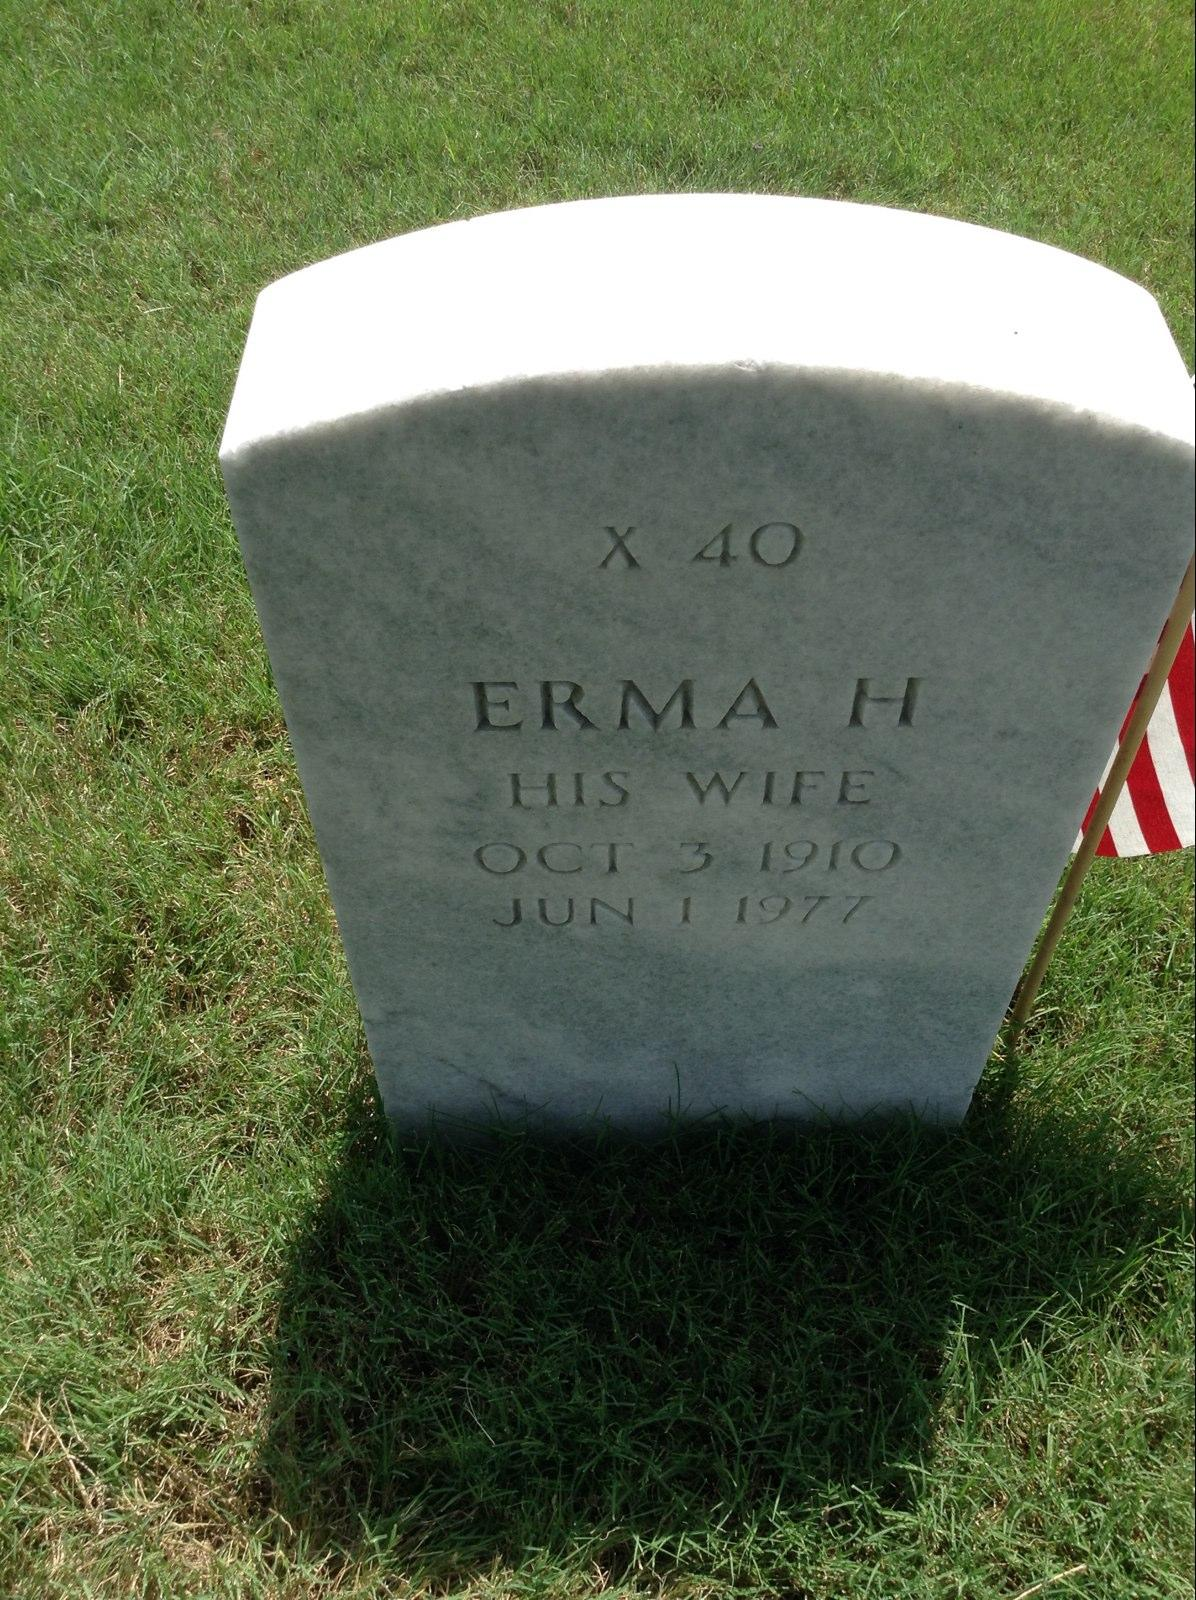military: (214, 185, 1196, 1129)
